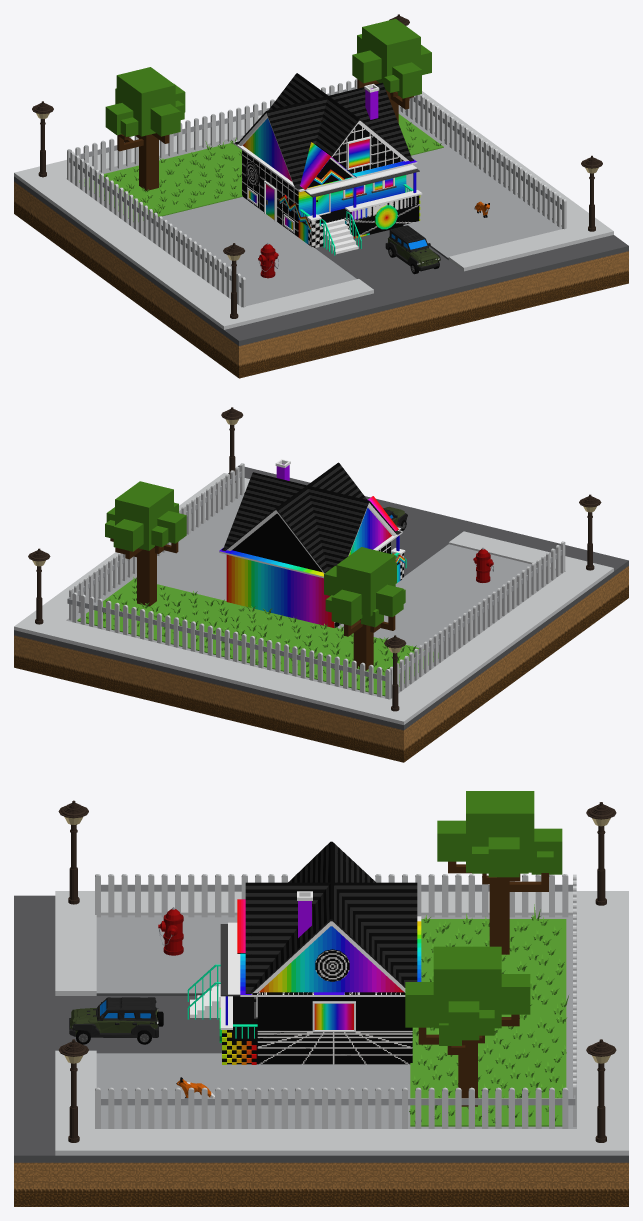
The picture shows the model from 3 angles, top to bottom: view 1: azimuth 30°, elevation 25°; view 2: azimuth 150°, elevation 25°; view 3: azimuth 270°, elevation 25°; orthographic projection. The views are drawn at different scales.
Visible parts, largest first — view 1: Cube.004, Cube.1320, VEHICLES_JEEP, OBJRANDOM_FIRE_HYDRANT; view 2: Cube.004, Cube.1320, OBJRANDOM_FIRE_HYDRANT; view 3: Cube.004, Cube.1320, VEHICLES_JEEP, OBJRANDOM_FIRE_HYDRANT.
Part boxes in pixels (bbox=[...]): Cube.004: bbox=[14, 14, 628, 378]; Cube.1320: bbox=[233, 73, 422, 255]; VEHICLES_JEEP: bbox=[385, 225, 440, 274]; OBJRANDOM_FIRE_HYDRANT: bbox=[258, 243, 278, 278]; Cube.004: bbox=[14, 407, 628, 762]; Cube.1320: bbox=[219, 459, 406, 627]; OBJRANDOM_FIRE_HYDRANT: bbox=[473, 547, 493, 582]; Cube.004: bbox=[14, 791, 628, 1206]; Cube.1320: bbox=[187, 841, 421, 1064]; VEHICLES_JEEP: bbox=[69, 997, 163, 1044]; OBJRANDOM_FIRE_HYDRANT: bbox=[158, 907, 183, 955].
Size of the model in its own units: 4000 by 1617 by 4000.
30 materials, 5 textured.
